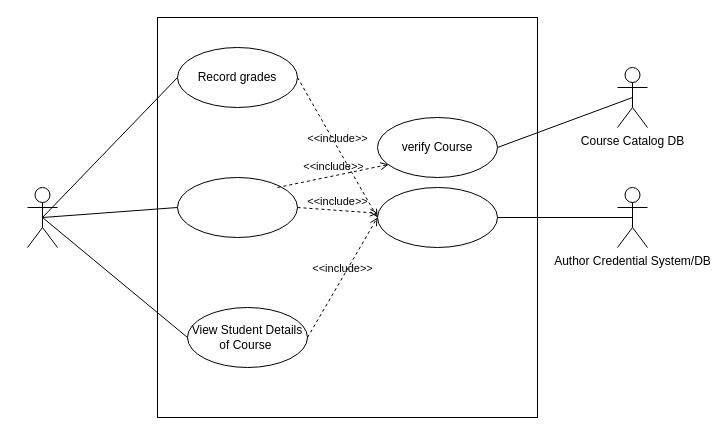
Image size: 728x435. Some labels were removed from this diagram. Here are the shapes that lost their labels. From the top down, the centre of each, then its label:
At point (42, 217): "Professor".
At point (237, 207): "Select course".
At point (437, 217): "Check identity".
